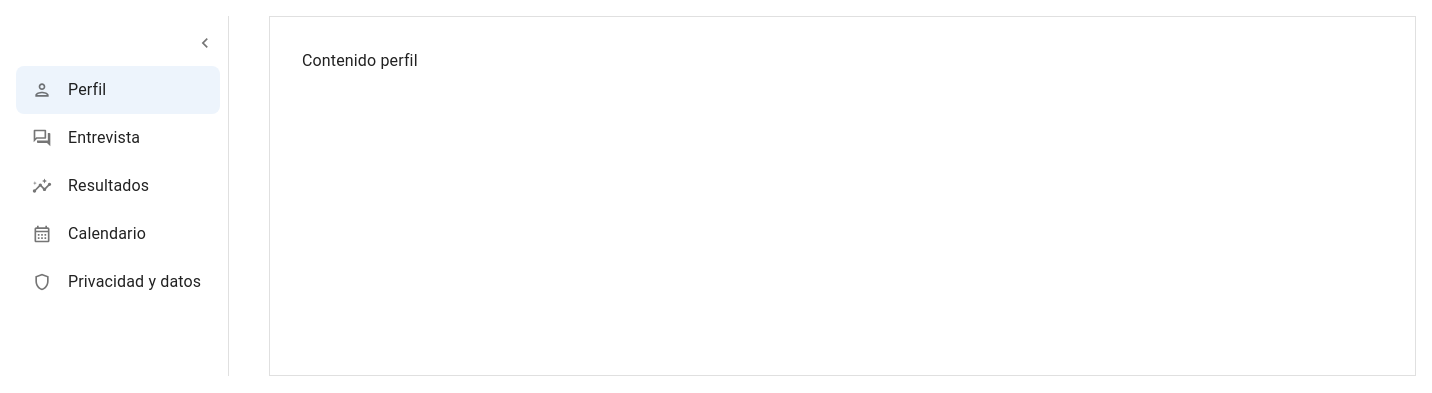
AccountPage › elegir una sección navega a su ruta
Click the link "Entrevista" at (86,138), box [32,128,140,148]
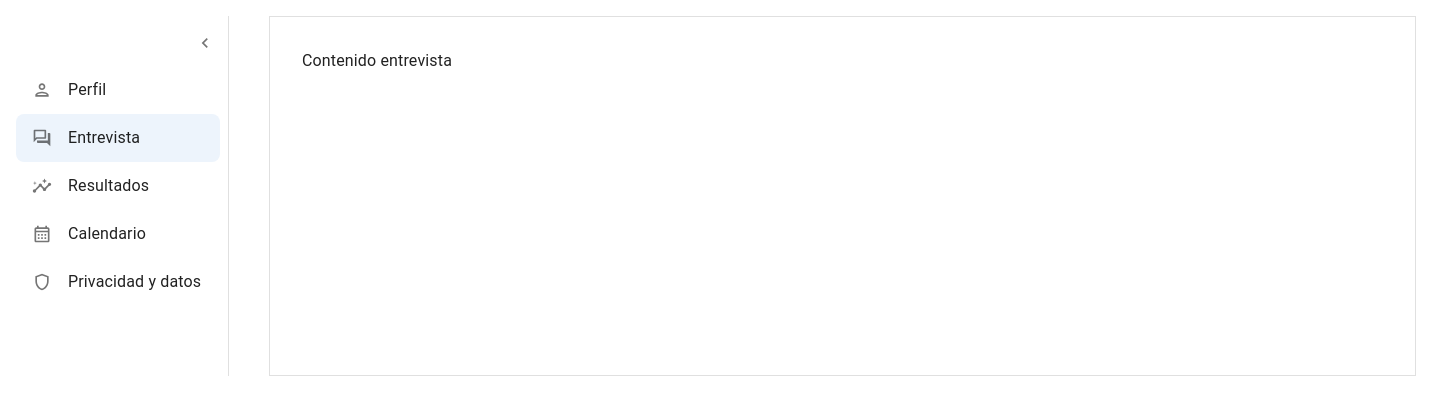
Result: the text "Contenido entrevista" is shown at [302,51,452,70]
